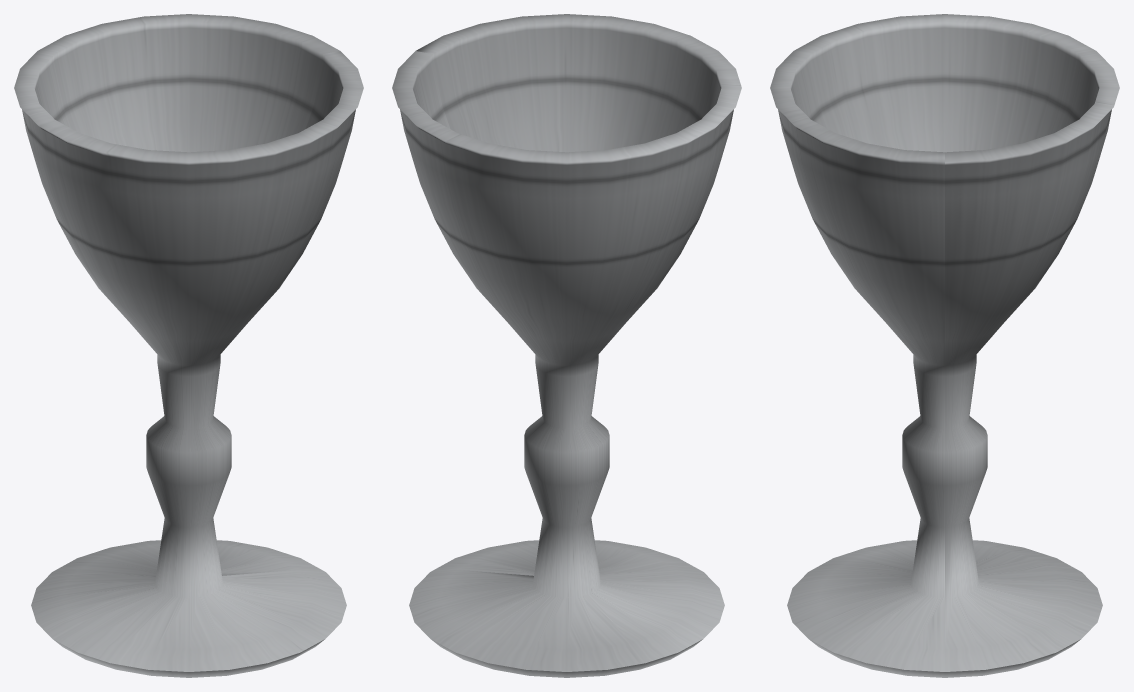
The model's file is Goblet.glb.
3 views of the same model, side by side, from view 1: azimuth 30°, elevation 25°; view 2: azimuth 150°, elevation 25°; view 3: azimuth 270°, elevation 25° (orthographic).
Parts seen in each view (by area): view 1: Goblet; view 2: Goblet; view 3: Goblet.
Boxes of the visible parts, x1,y1,x2,y2 form: Goblet: (14, 14, 363, 677); Goblet: (392, 14, 741, 677); Goblet: (770, 14, 1119, 677).
Size of the model in its own units: 0.576 by 0.962 by 0.576.
Materials: 1 (1 with a texture image).
